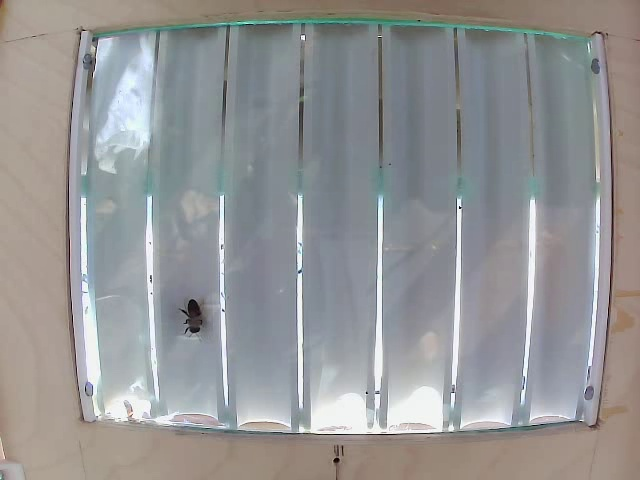bee: (180, 291, 209, 346)
